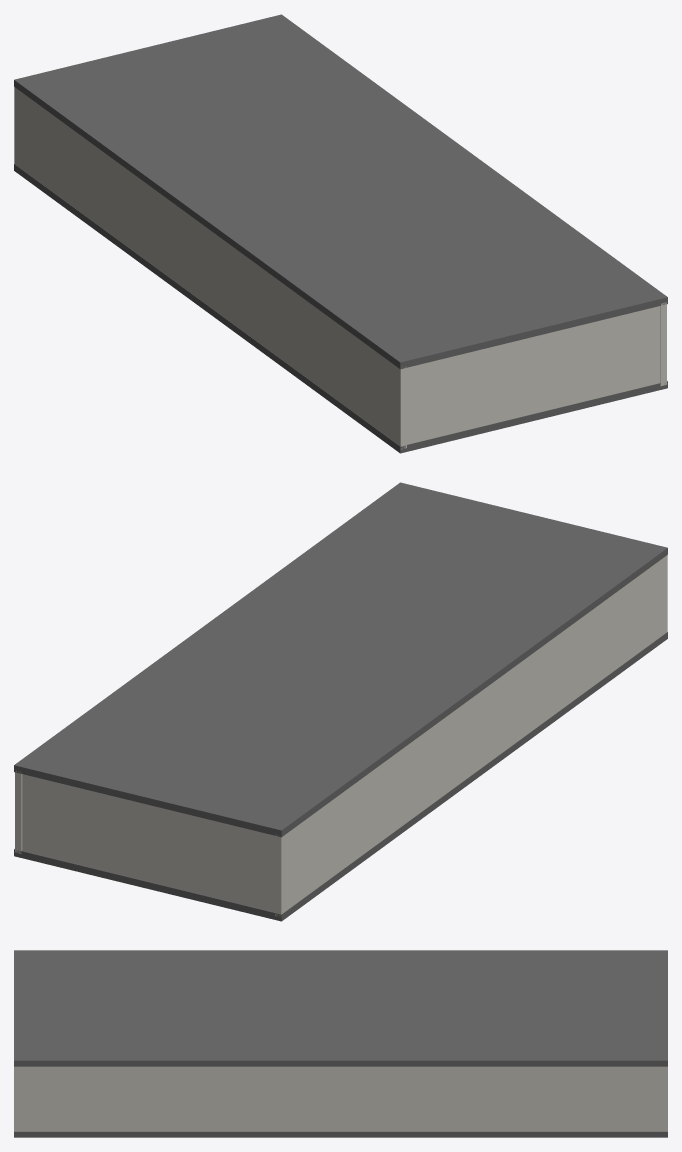
File: tunnel.obj
3 views of the same model, one above another, from view 1: azimuth 30°, elevation 25°; view 2: azimuth 150°, elevation 25°; view 3: azimuth 270°, elevation 25° (orthographic). The views are drawn at different scales.
Visible parts, largest first — view 1: Tarmac001, Tarmac002, Tarmac; view 2: Tarmac001, Tarmac002, Tarmac; view 3: Tarmac001, Tarmac002, Tarmac.
Boxes of the visible parts, bbox=[...] form: Tarmac001: bbox=[14, 14, 667, 369]; Tarmac002: bbox=[14, 87, 666, 449]; Tarmac: bbox=[14, 164, 667, 453]; Tarmac001: bbox=[14, 482, 667, 837]; Tarmac002: bbox=[15, 555, 667, 917]; Tarmac: bbox=[14, 632, 667, 921]; Tarmac001: bbox=[14, 950, 667, 1066]; Tarmac002: bbox=[14, 1066, 667, 1131]; Tarmac: bbox=[14, 1131, 667, 1137].
Size of the model in its own units: 36 by 11.7 by 90.
1 material, 1 textured.
